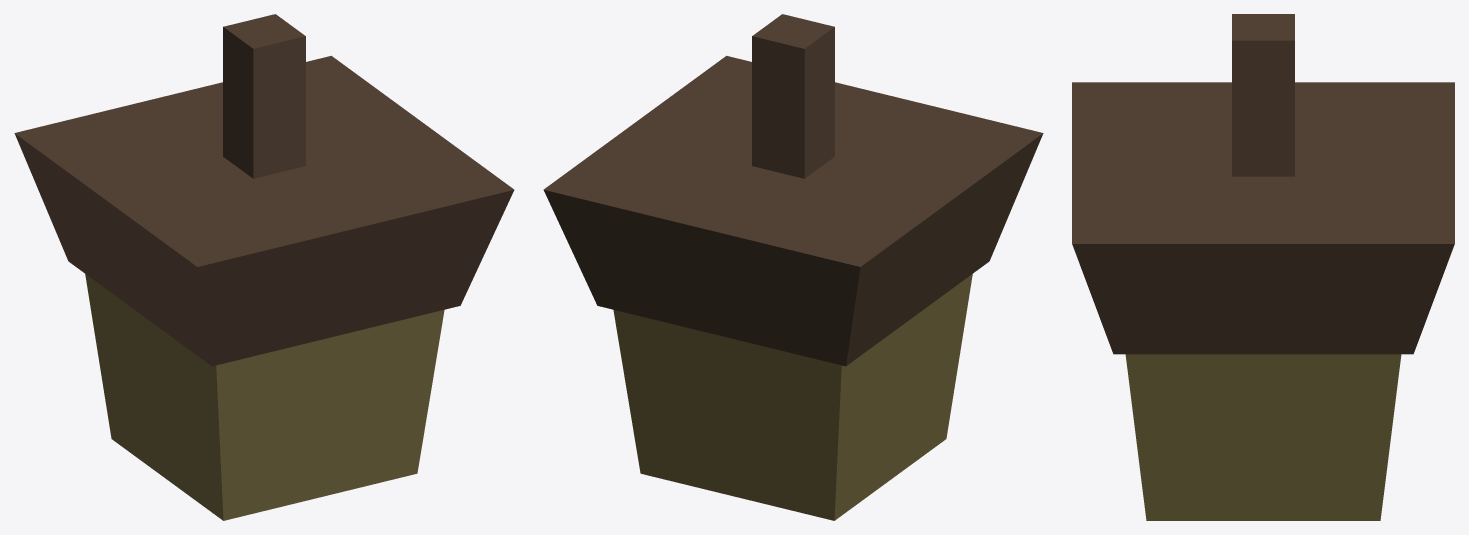
File: Almond.fbx
3 views of the same model, side by side, from view 1: azimuth 30°, elevation 25°; view 2: azimuth 150°, elevation 25°; view 3: azimuth 270°, elevation 25° (orthographic). The views are drawn at different scales.
Parts seen in each view (by area): view 1: Cube.002; view 2: Cube.002; view 3: Cube.002.
Part boxes in pixels (<box>): Cube.002: <box>14,14,514,520</box>; Cube.002: <box>543,14,1043,520</box>; Cube.002: <box>1072,14,1454,520</box>.
Bounding box in the file's own units: 256 × 328 × 256.
